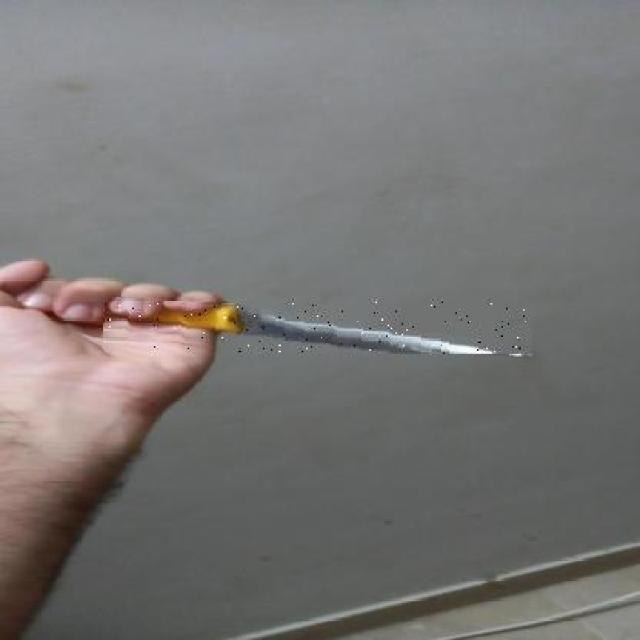knife: (103, 301, 532, 354)
